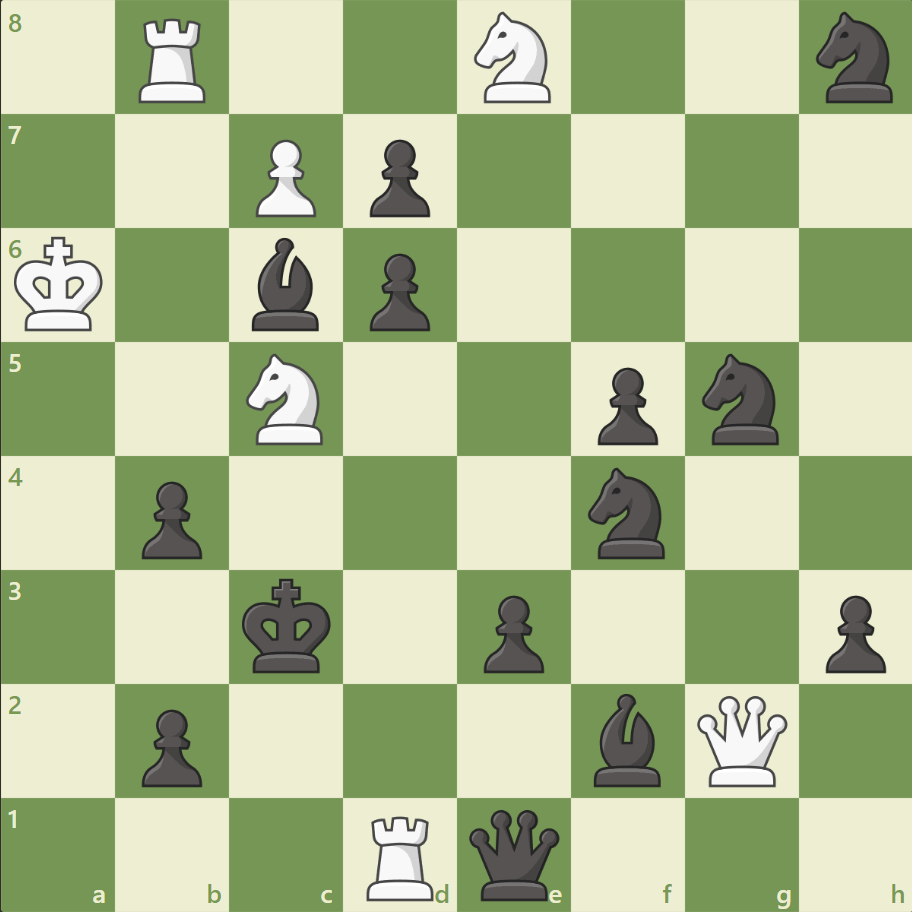K: (11, 231, 111, 339)
N: (465, 7, 562, 110), (238, 348, 335, 450)
P: (247, 132, 322, 223)
Q: (691, 690, 790, 789)
R: (360, 806, 442, 904), (133, 12, 215, 109)
b: (244, 233, 328, 336), (585, 687, 669, 790)
k: (238, 571, 338, 679)
n: (806, 7, 903, 110), (579, 461, 676, 564), (692, 348, 789, 450)
p: (133, 473, 208, 564), (474, 586, 549, 677), (133, 700, 208, 791), (361, 132, 435, 223), (361, 246, 435, 337), (588, 359, 662, 450), (815, 586, 889, 677)
q: (464, 804, 563, 903)
